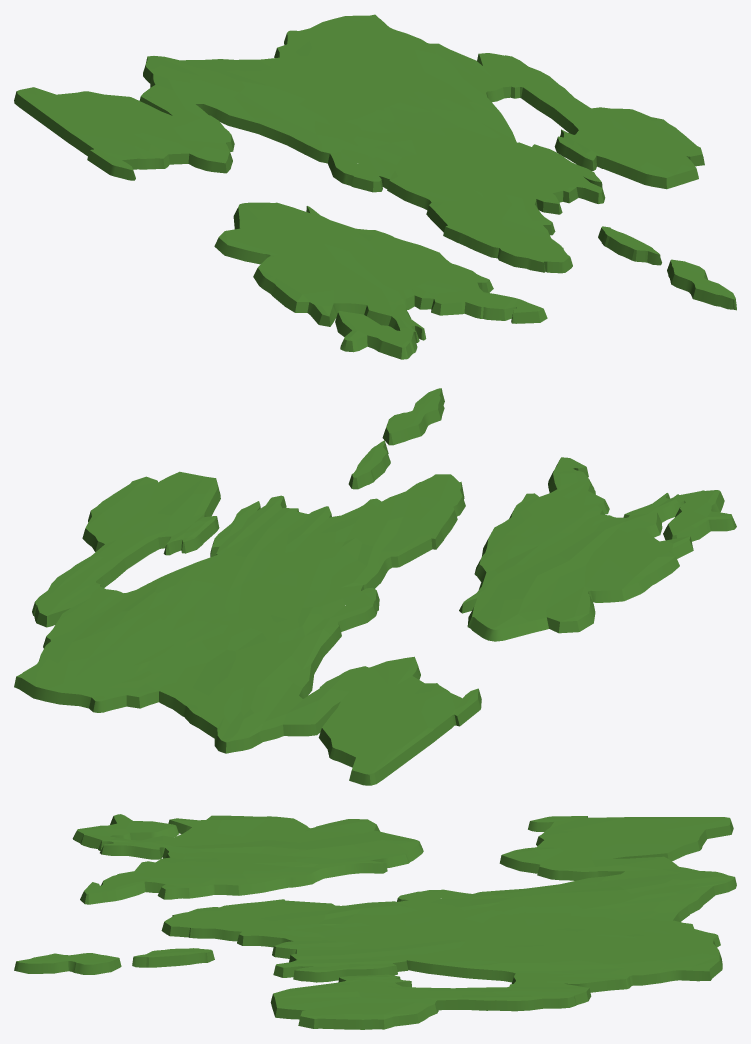
The model's file is grass_layer_block_B.fbx.
3 renders of one model, top to bottom at view 1: azimuth 30°, elevation 25°; view 2: azimuth 150°, elevation 25°; view 3: azimuth 270°, elevation 25°, orthographic. The views are drawn at different scales.
Visible parts, largest first — view 1: grass_layer_block_B_A, grass_layer_block_B_B, grass_layer_block_B_C, grass_layer_block_B_D; view 2: grass_layer_block_B_A, grass_layer_block_B_B, grass_layer_block_B_C, grass_layer_block_B_D; view 3: grass_layer_block_B_A, grass_layer_block_B_B, grass_layer_block_B_C, grass_layer_block_B_D.
Part boxes in pixels (box(x1,y1,x2,y2)): grass_layer_block_B_A: box(14, 14, 704, 273); grass_layer_block_B_B: box(214, 202, 547, 359); grass_layer_block_B_C: box(667, 259, 736, 310); grass_layer_block_B_D: box(598, 226, 661, 265); grass_layer_block_B_A: box(14, 471, 481, 785); grass_layer_block_B_B: box(459, 457, 736, 641); grass_layer_block_B_C: box(382, 388, 444, 445); grass_layer_block_B_D: box(348, 440, 390, 489); grass_layer_block_B_A: box(161, 816, 736, 1029); grass_layer_block_B_B: box(72, 814, 423, 904); grass_layer_block_B_C: box(14, 953, 121, 974); grass_layer_block_B_D: box(132, 948, 214, 967).
Size of the model in its own units: 2632 by 58.01 by 3856.
